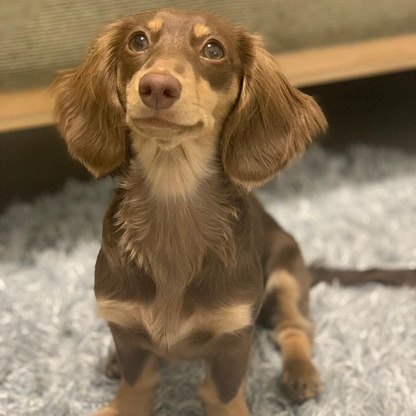dachshund: (44, 2, 320, 402)
